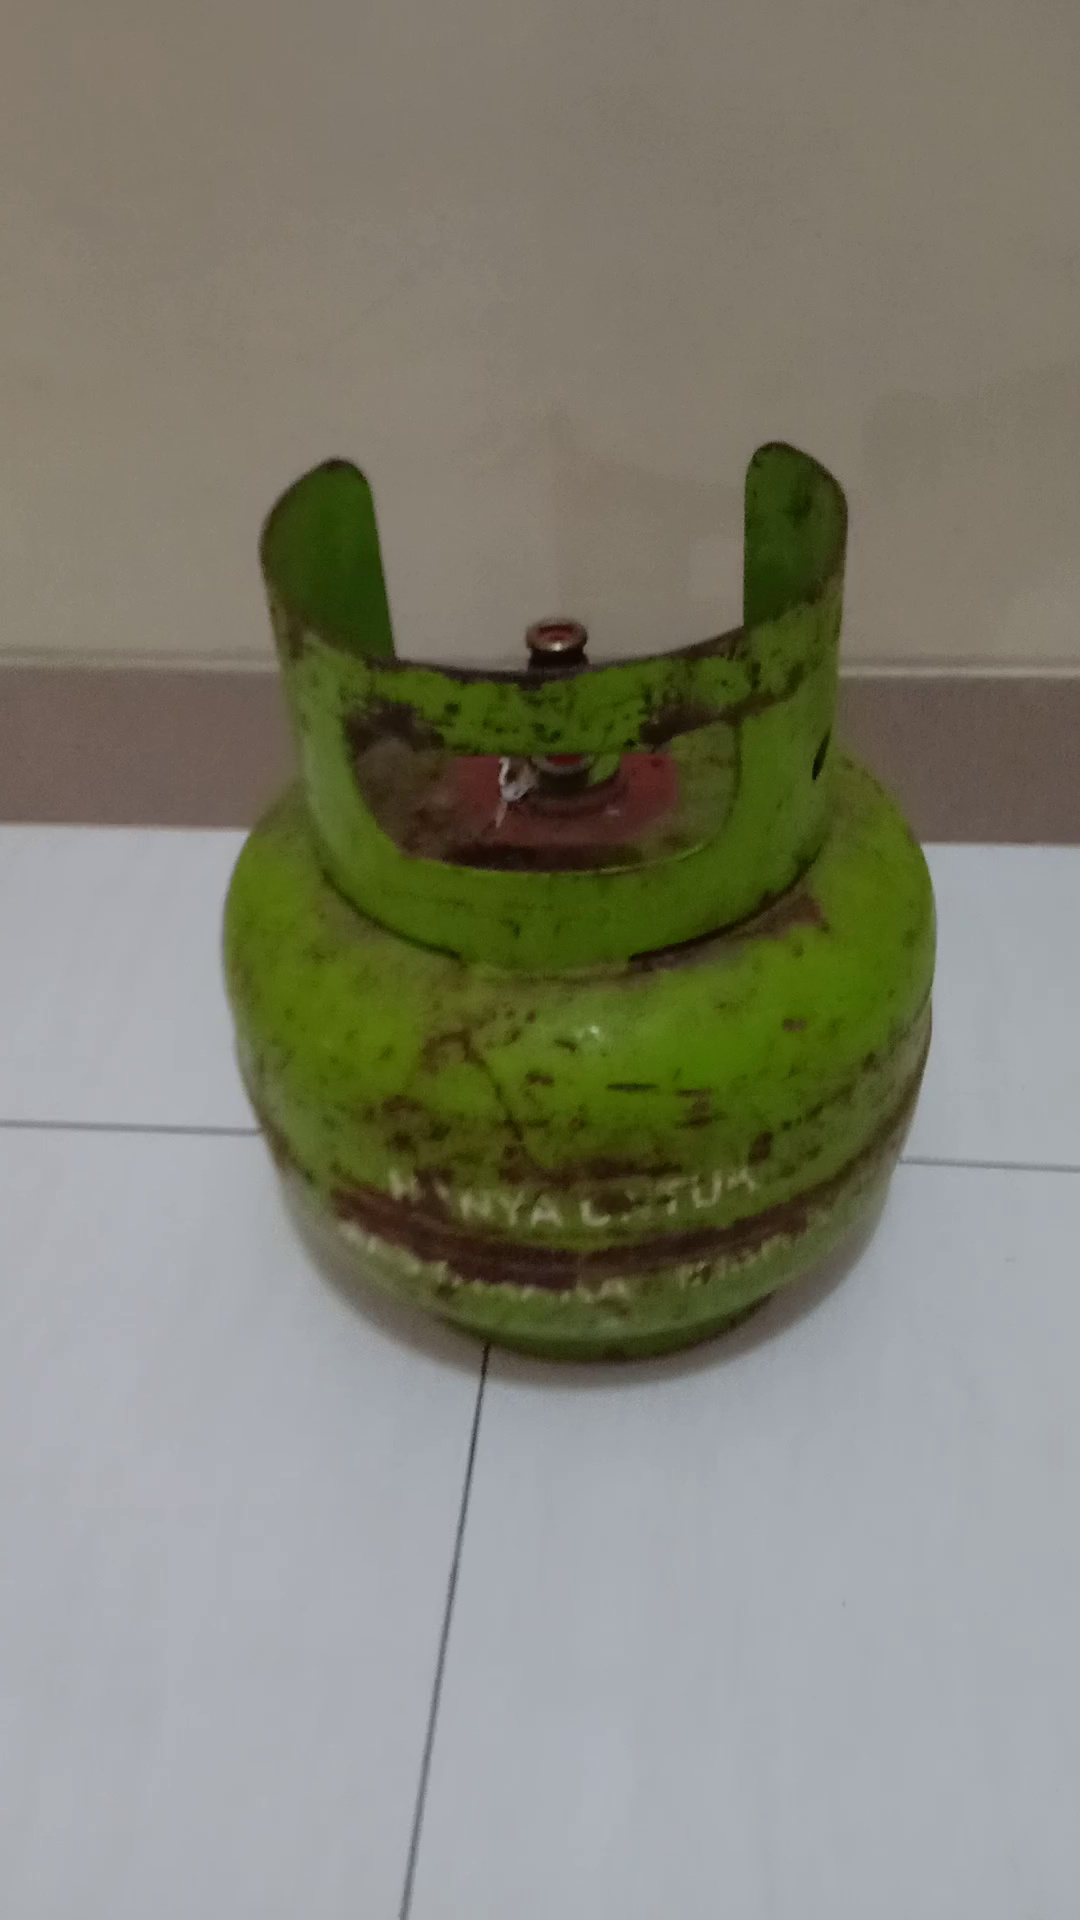gas_ijo: (223, 442, 938, 1374)
